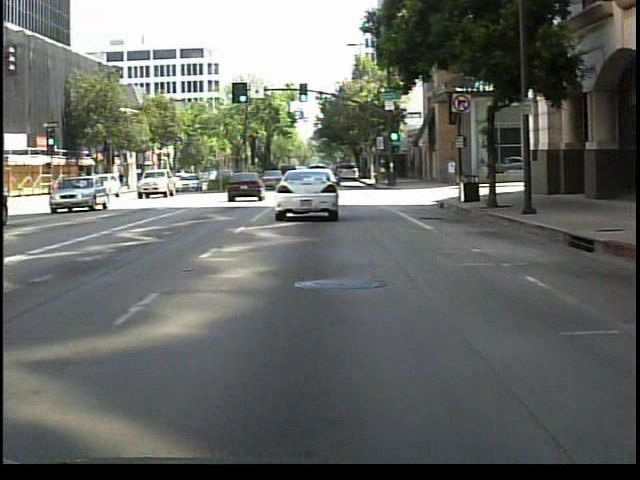person: (444, 153, 460, 193)
